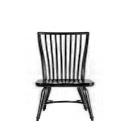chair_success: (28, 29, 101, 123)
